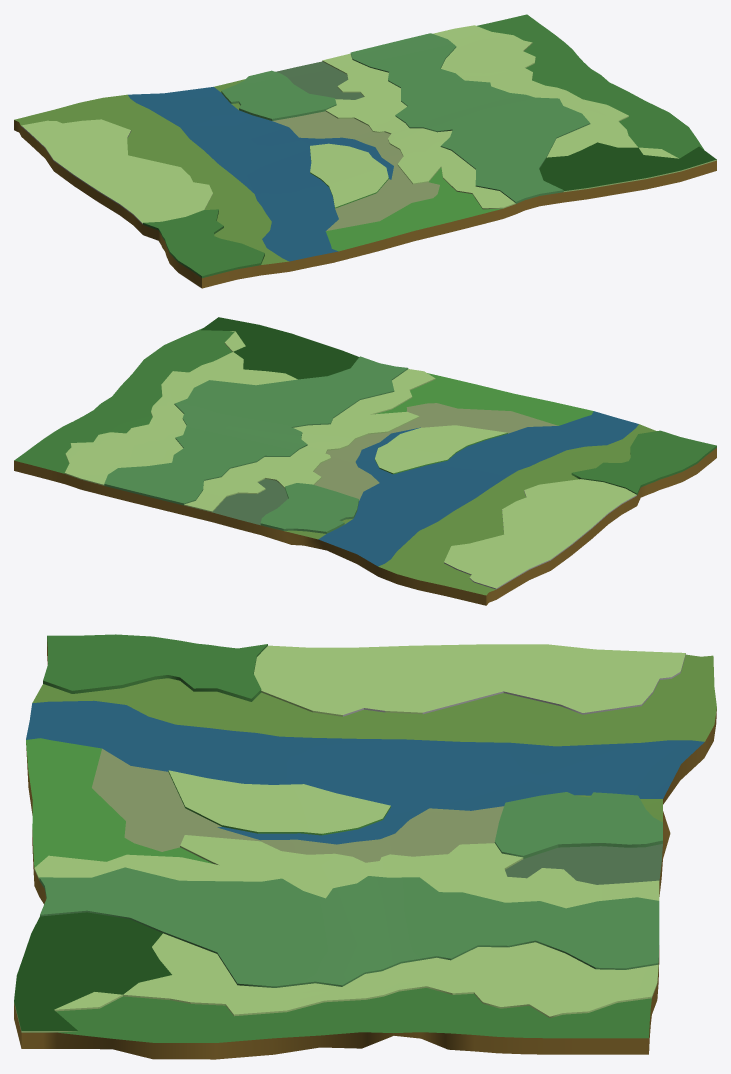
The model's file is Forest.fbx.
3 views of the same model, one above another, from view 1: azimuth 30°, elevation 25°; view 2: azimuth 150°, elevation 25°; view 3: azimuth 270°, elevation 25° (orthographic). The views are drawn at different scales.
Parts seen in each view (by area): view 1: pCube21; view 2: pCube21; view 3: pCube21.
Boxes of the visible parts, x1,y1,x2,y2 form: pCube21: (14,14,716,288); pCube21: (14,317,716,605); pCube21: (14,634,716,1059).
Bounding box in the file's own units: 52.93 × 1.3 × 38.8.
